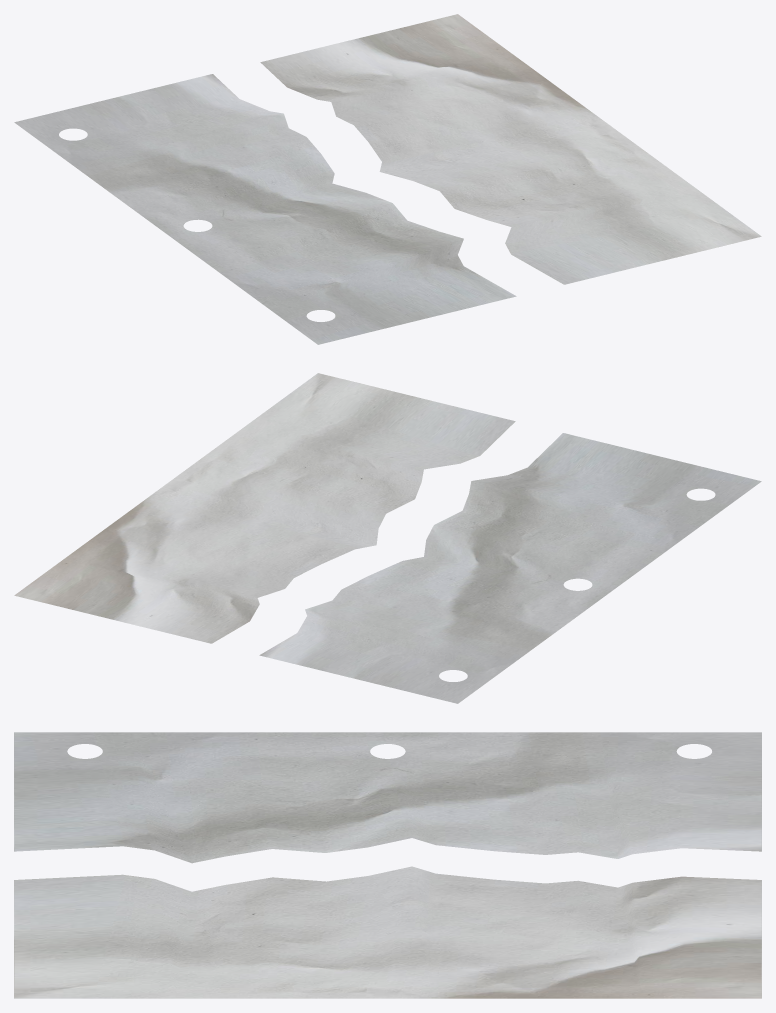
The model's file is paper_level.fbx.
3 views of the same model, one above another, from view 1: azimuth 30°, elevation 25°; view 2: azimuth 150°, elevation 25°; view 3: azimuth 270°, elevation 25° (orthographic). The views are drawn at different scales.
Visible parts, largest first — view 1: Plane; view 2: Plane; view 3: Plane.
Part boxes in pixels (box(x1,y1,x2,y2)): Plane: box(14, 14, 761, 344); Plane: box(14, 373, 761, 703); Plane: box(14, 732, 761, 998).
Bounding box in the file's own units: 14767 × 0.00285 × 17521.
